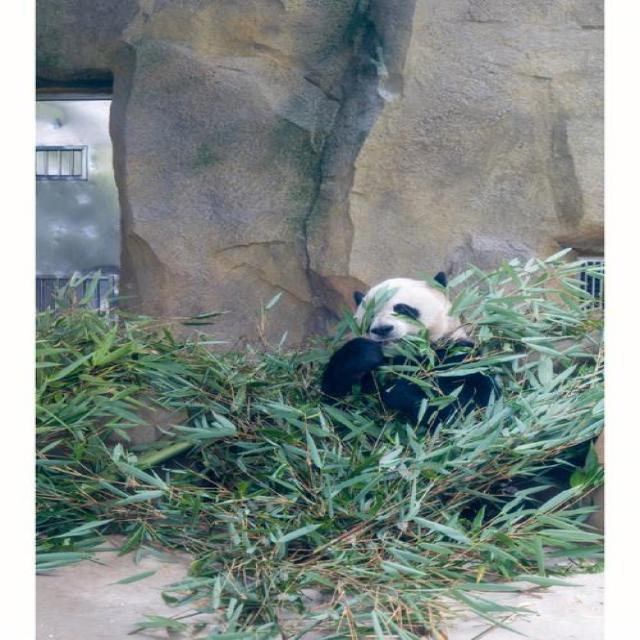panda: (307, 267, 594, 535)
